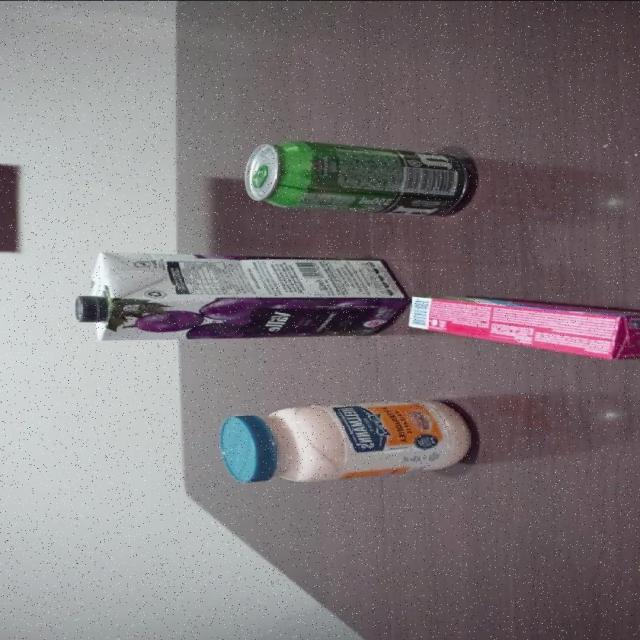BeerCan: (238, 139, 474, 222)
Mayonnaise: (220, 398, 473, 484)
Toothpaste: (408, 292, 640, 364)
